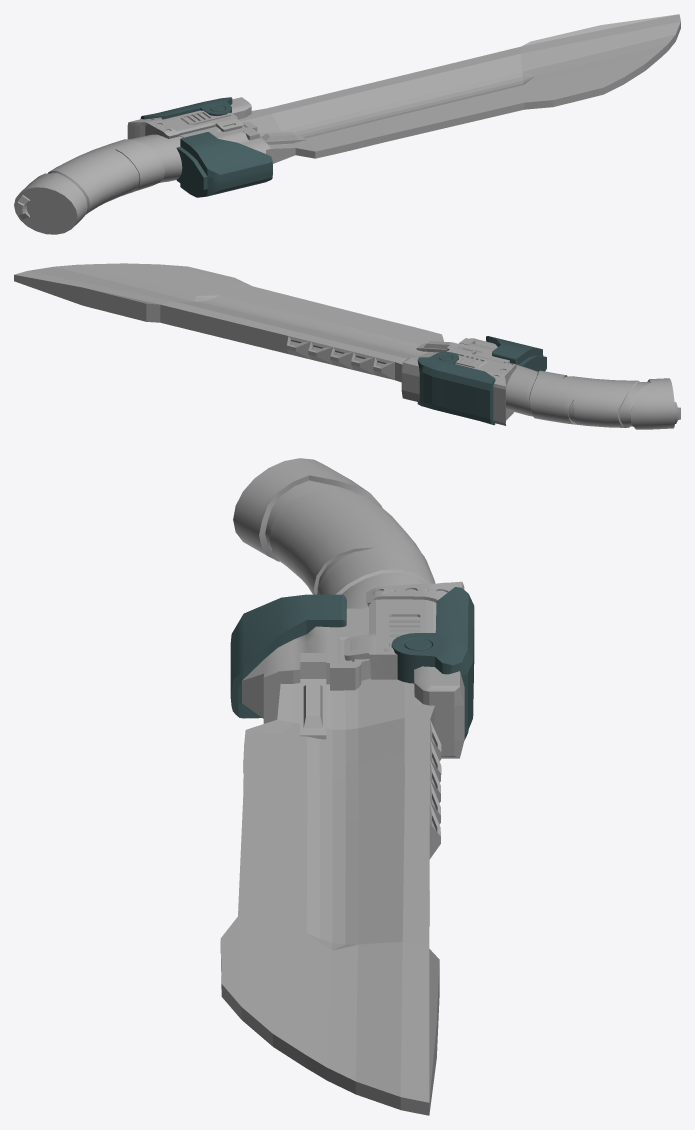
File: NerfMachete.fbx
3 views of the same model, one above another, from view 1: azimuth 30°, elevation 25°; view 2: azimuth 150°, elevation 25°; view 3: azimuth 270°, elevation 25° (orthographic). The views are drawn at different scales.
Visible parts, largest first — view 1: pCube1, pCylinder1, pPlane3, polySurface8, pPlane9, pCylinder4, polySurface7, pCube4, pPlane11; view 2: pCube1, pCylinder1, pCylinder4, pPlane3, polySurface7, pPlane11, polySurface8, pPlane9, pCube4; view 3: pCube1, pCylinder1, pPlane9, pPlane3, pCylinder4, polySurface8, pPlane11, pCube4, polySurface7.
Part boxes in pixels (bbox=[...]): pCube1: bbox=[238, 14, 680, 163]; pCylinder1: bbox=[14, 134, 182, 234]; pPlane3: bbox=[176, 132, 272, 197]; polySurface8: bbox=[162, 110, 242, 135]; pPlane9: bbox=[179, 121, 270, 155]; pCylinder4: bbox=[140, 97, 232, 119]; polySurface7: bbox=[127, 117, 180, 181]; pCube4: bbox=[242, 128, 305, 144]; pPlane11: bbox=[230, 97, 251, 119]; pCube1: bbox=[14, 263, 443, 382]; pCylinder1: bbox=[506, 365, 680, 429]; pCylinder4: bbox=[417, 352, 495, 425]; pPlane3: bbox=[486, 336, 546, 371]; polySurface7: bbox=[488, 361, 516, 425]; pPlane11: bbox=[401, 357, 419, 401]; polySurface8: bbox=[447, 346, 503, 373]; pPlane9: bbox=[447, 338, 509, 362]; pCube4: bbox=[416, 338, 475, 352]; pCube1: bbox=[220, 678, 441, 1115]; pCylinder1: bbox=[233, 458, 435, 608]; pPlane9: bbox=[242, 607, 370, 723]; pPlane3: bbox=[230, 594, 346, 718]; pCylinder4: bbox=[391, 587, 474, 740]; polySurface8: bbox=[344, 599, 436, 679]; pPlane11: bbox=[414, 666, 464, 758]; pCube4: bbox=[300, 653, 326, 739]; polySurface7: bbox=[366, 581, 464, 606].
Bounding box in the file's own units: 20.57 × 1.44 × 3.53.
